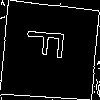F: (25, 26, 74, 62)
